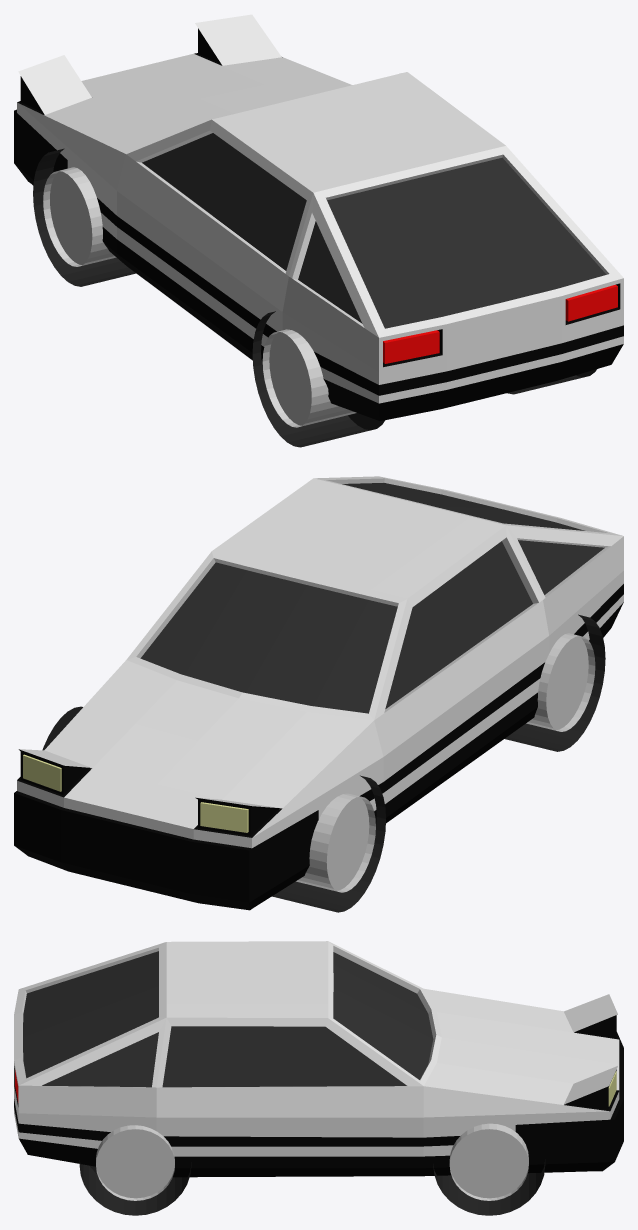
3 renders of one model, top to bottom at view 1: azimuth 30°, elevation 25°; view 2: azimuth 150°, elevation 25°; view 3: azimuth 270°, elevation 25°, orthographic. The views are drawn at different scales.
Visible parts, largest first — view 1: Cube, BackWheelsRight.002, BackWheelsRight.003; view 2: Cube, BackWheelsRight.003, BackWheelsRight.002; view 3: Cube, BackWheelsRight.001, BackWheelsRight.
Boxes of the visible parts, bbox=[...] form: Cube: bbox=[14, 14, 623, 421]; BackWheelsRight.002: bbox=[252, 311, 384, 447]; BackWheelsRight.003: bbox=[33, 148, 135, 286]; Cube: bbox=[14, 476, 623, 910]; BackWheelsRight.003: bbox=[272, 775, 385, 912]; BackWheelsRight.002: bbox=[504, 614, 605, 751]; Cube: bbox=[14, 941, 623, 1177]; BackWheelsRight.001: bbox=[433, 1123, 545, 1215]; BackWheelsRight: bbox=[79, 1125, 191, 1215].
Size of the model in its own units: 1.94 by 1.47 by 4.48.
